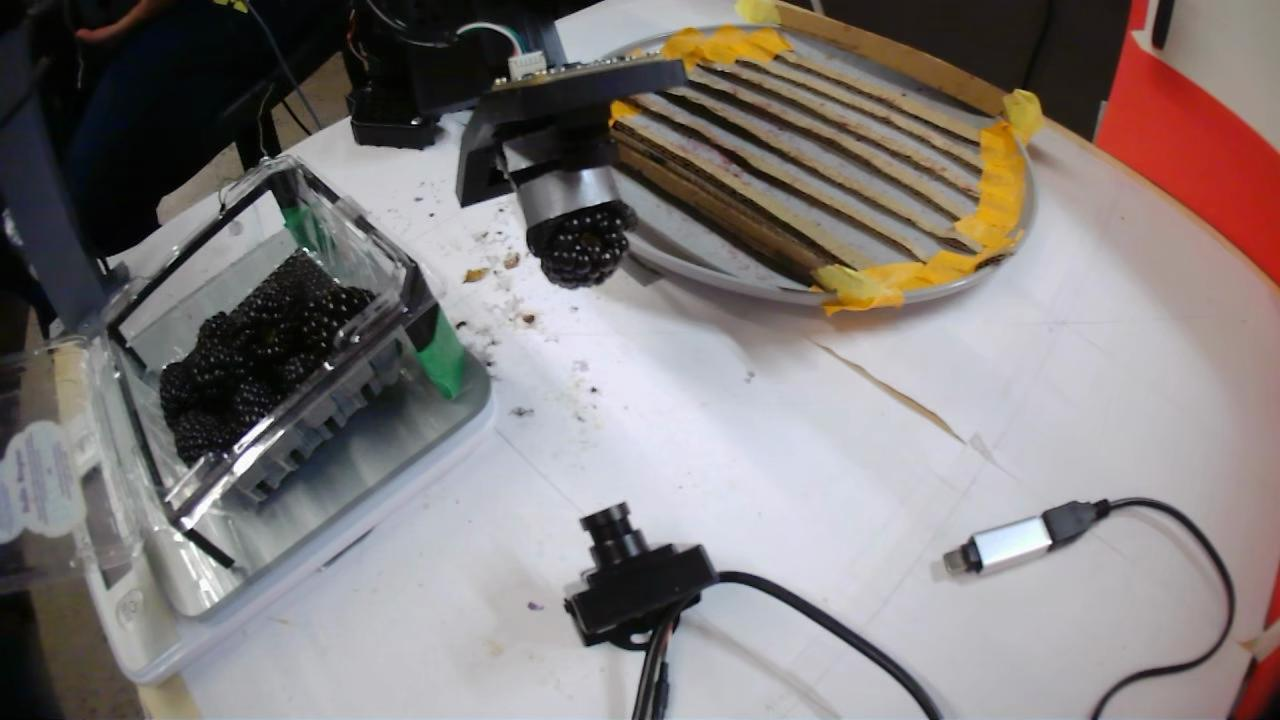berry: (537, 205, 628, 288), (242, 273, 305, 366), (303, 285, 375, 346), (172, 410, 232, 463), (195, 343, 248, 397), (276, 348, 329, 400), (159, 361, 197, 416), (234, 381, 276, 424), (197, 311, 237, 351)
